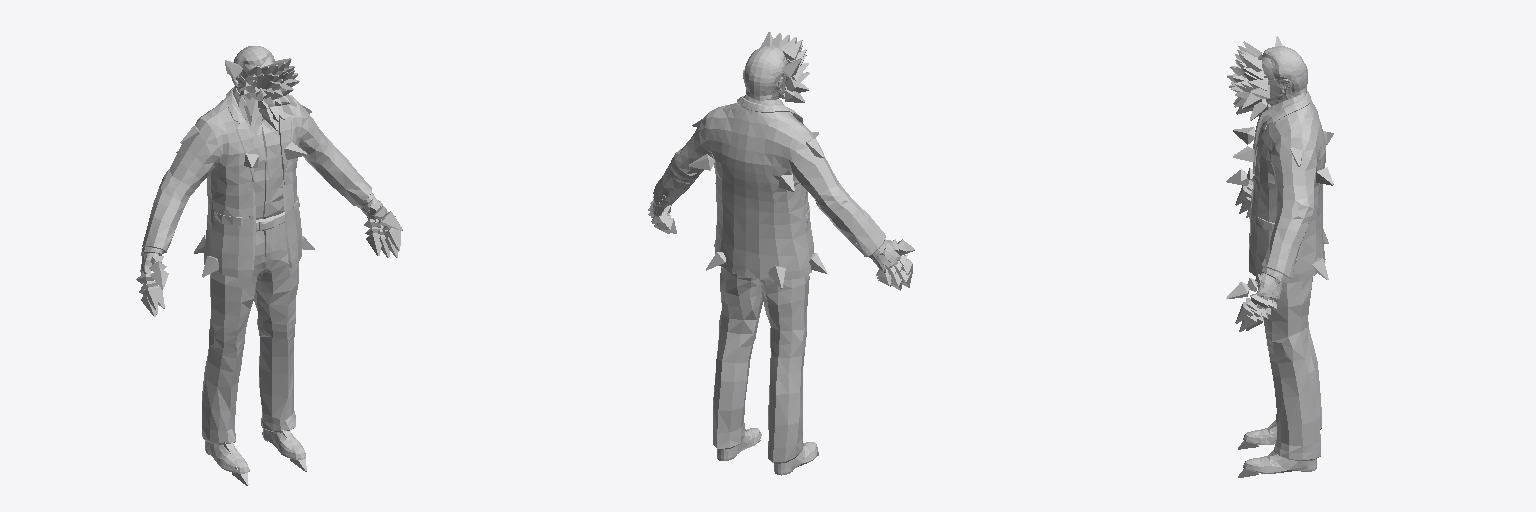
Rendered from stanlee.obj.
The picture shows the model from 3 angles: view 1: azimuth 30°, elevation 25°; view 2: azimuth 150°, elevation 25°; view 3: azimuth 270°, elevation 25°; orthographic projection.
Visible parts, largest first — view 1: Object01; view 2: Object01; view 3: Object01.
Part boxes in pixels (left/top/right/bottom): Object01: left=140, top=46, right=387, bottom=473; Object01: left=652, top=46, right=901, bottom=475; Object01: left=1243, top=46, right=1325, bottom=473.
Size of the model in its own units: 21.41 by 33.49 by 7.87.